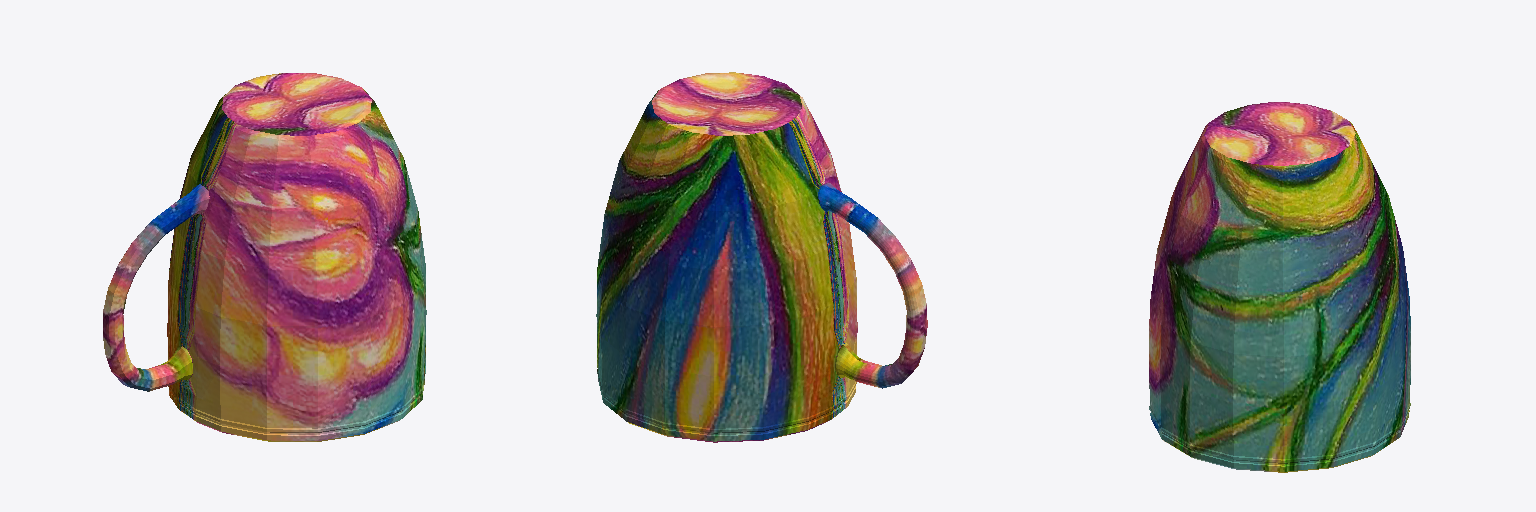
3 views of the same model, side by side, from view 1: azimuth 30°, elevation 25°; view 2: azimuth 150°, elevation 25°; view 3: azimuth 270°, elevation 25° (orthographic).
Parts seen in each view (by area): view 1: crockery_cup_mesh; view 2: crockery_cup_mesh; view 3: crockery_cup_mesh.
Part boxes in pixels (x1,y1,x2,y2): crockery_cup_mesh: (103,73,426,441); crockery_cup_mesh: (596,72,927,442); crockery_cup_mesh: (1149,102,1410,472).
Bounding box in the file's own units: 11.29 × 9.99 × 8.3.
1 materials, 1 textured.